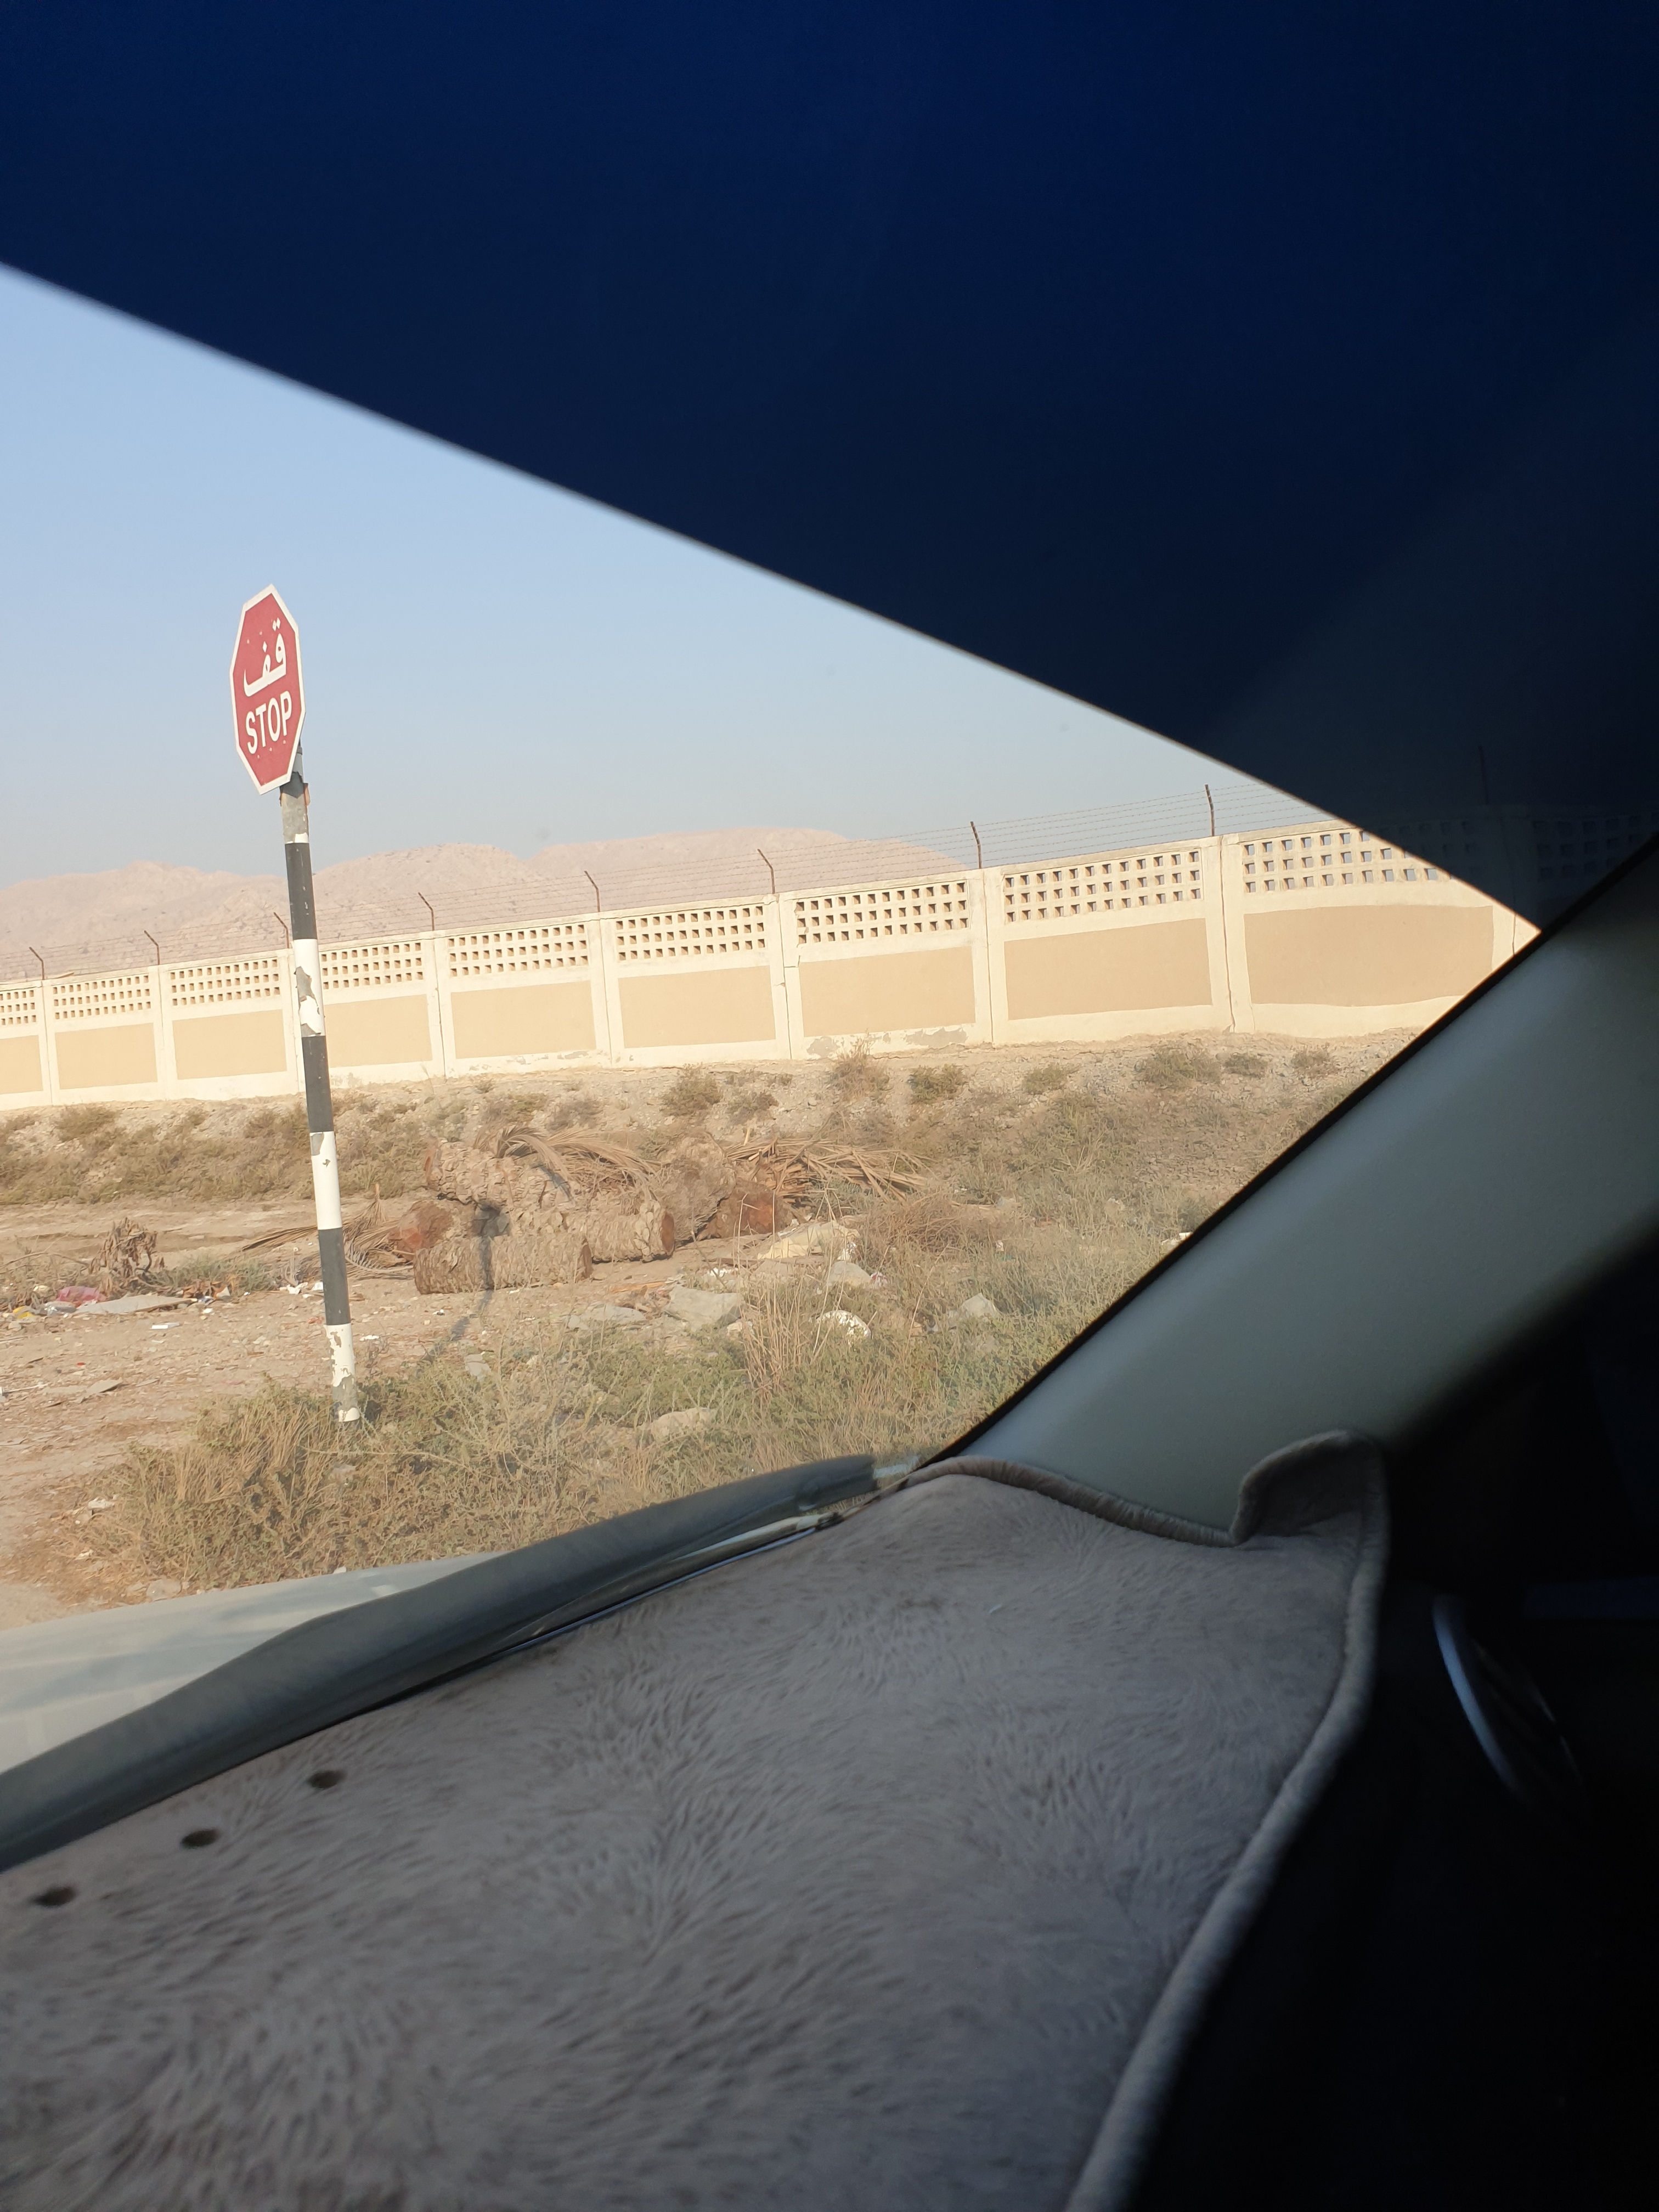fallen_trees: (728, 1115, 924, 1214), (408, 1115, 599, 1202), (521, 1205, 720, 1275), (664, 1167, 819, 1242), (545, 1130, 690, 1209), (429, 1228, 603, 1287), (364, 1231, 430, 1291)
